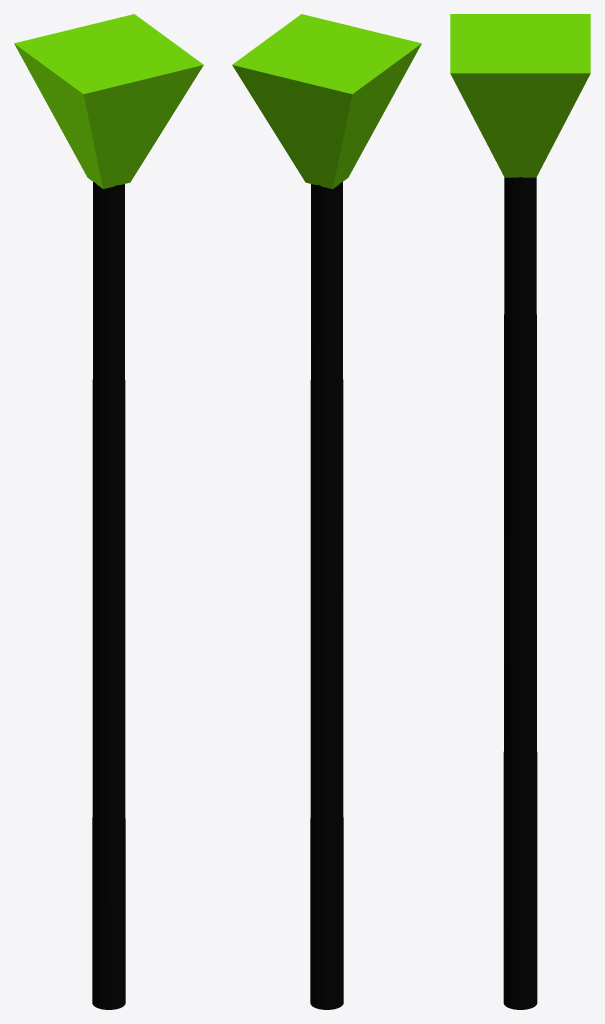
Rendered from Lamp.gltf.
The picture shows the model from 3 angles, left to right: view 1: azimuth 30°, elevation 25°; view 2: azimuth 150°, elevation 25°; view 3: azimuth 270°, elevation 25°; orthographic projection.
Visible parts, largest first — view 1: Cylinder, Cube; view 2: Cylinder, Cube; view 3: Cylinder, Cube.
Boxes of the visible parts, x1,y1,x2,y2 form: Cylinder: [92, 182, 125, 1009]; Cube: [14, 14, 203, 188]; Cylinder: [310, 182, 343, 1009]; Cube: [232, 14, 421, 188]; Cylinder: [503, 177, 537, 1009]; Cube: [450, 14, 590, 177].
Bounding box in the file's own units: 0.8114 × 6.11 × 0.8114.
